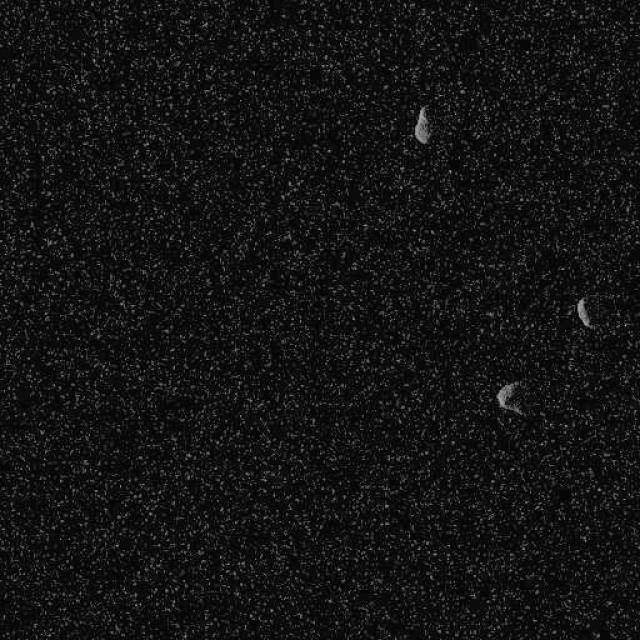D2: (495, 379, 527, 416), (412, 104, 432, 144), (575, 296, 594, 329)
